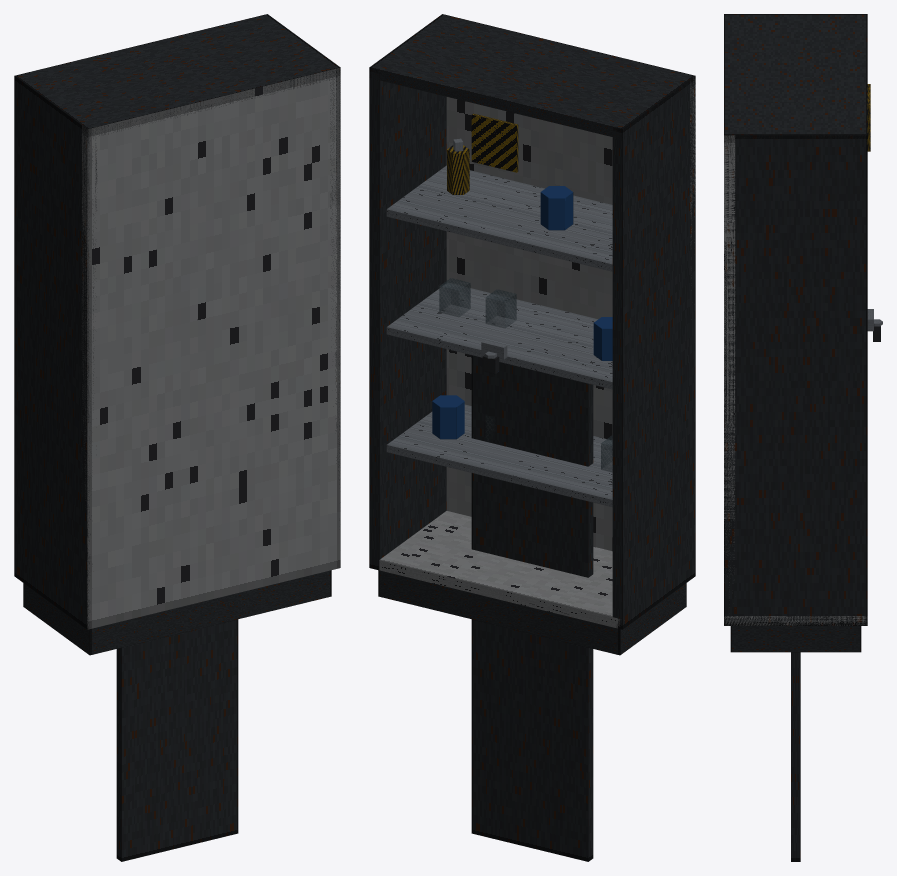
The model's file is chemical_cabinet_medbay_clean.glb.
3 renders of one model, left to right at view 1: azimuth 30°, elevation 25°; view 2: azimuth 150°, elevation 25°; view 3: azimuth 270°, elevation 25°, orthographic.
Parts seen in each view (by area): view 1: chemical_cabinet_medbay_clean; view 2: chemical_cabinet_medbay_clean; view 3: chemical_cabinet_medbay_clean.
Boxes of the visible parts, x1,y1,x2,y2 form: chemical_cabinet_medbay_clean: [14, 14, 340, 861]; chemical_cabinet_medbay_clean: [369, 14, 695, 861]; chemical_cabinet_medbay_clean: [724, 14, 882, 861].
Bounding box in the file's own units: 0.9 × 2.63 × 0.498.
7 materials, 7 textured.
